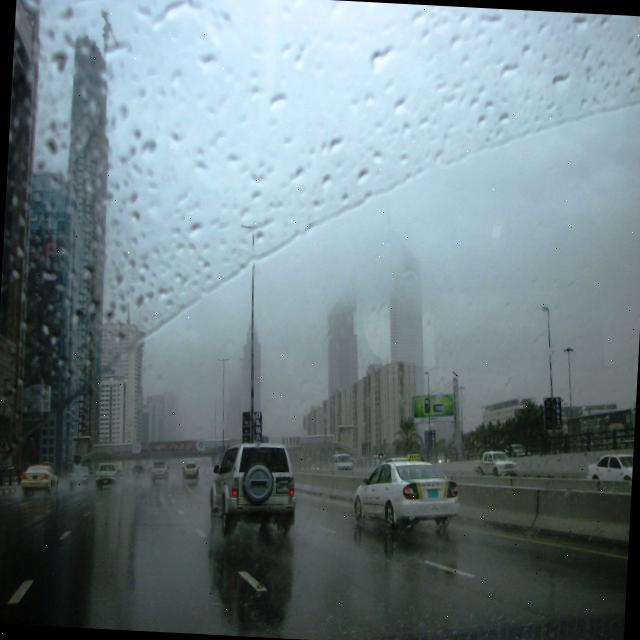car: (350, 455, 462, 538), (208, 439, 300, 533), (471, 448, 520, 478), (582, 451, 632, 479), (21, 464, 58, 492), (96, 458, 124, 484), (70, 464, 92, 488), (329, 452, 354, 472), (181, 458, 201, 482), (150, 460, 170, 483)
